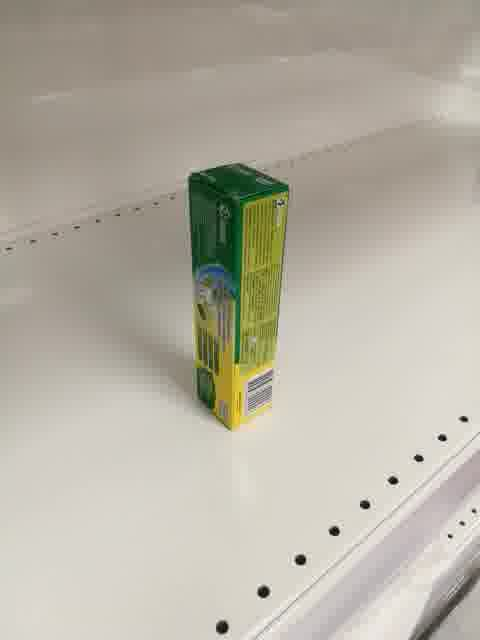toothpaste: (188, 164, 291, 433)
